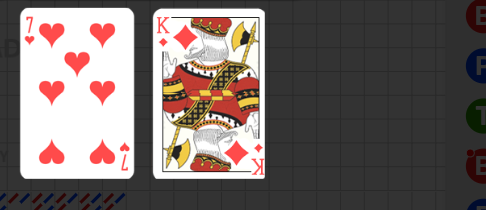7H: (24, 15, 37, 47)
KD: (252, 142, 265, 176)
